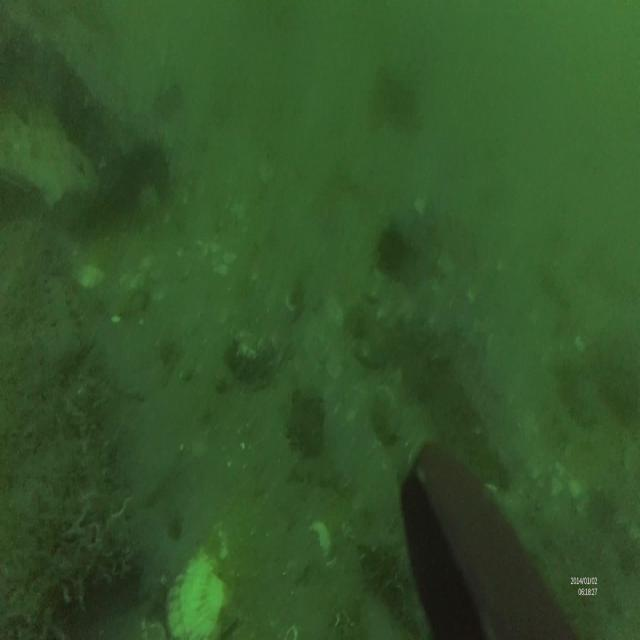echinus: (374, 223, 410, 279)
scallop: (169, 529, 242, 640)
